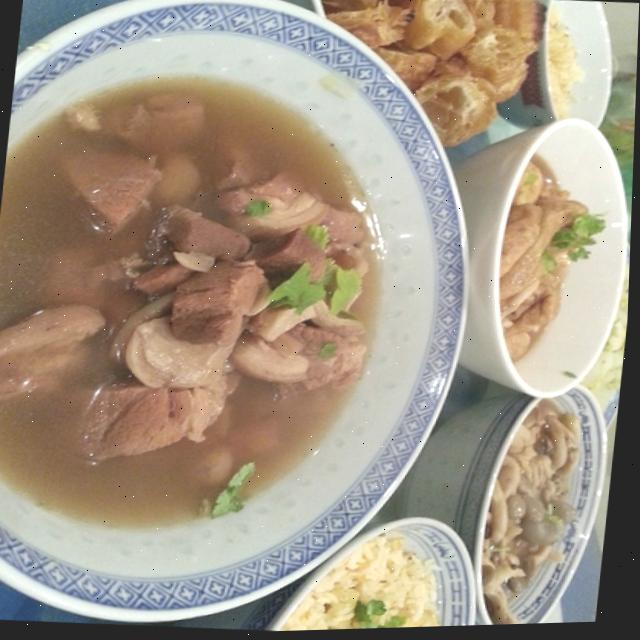汤锅炖物: (0, 14, 447, 605)
